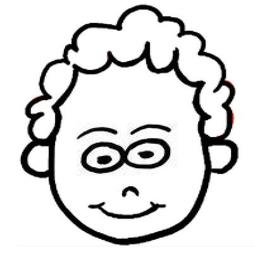ear: (201, 136, 242, 184), (17, 140, 60, 179)
eye: (75, 140, 125, 179), (125, 136, 175, 170)
eyebrow: (67, 122, 130, 142), (130, 120, 178, 134)
mouth: (81, 200, 175, 220)
nose: (115, 180, 143, 197)
